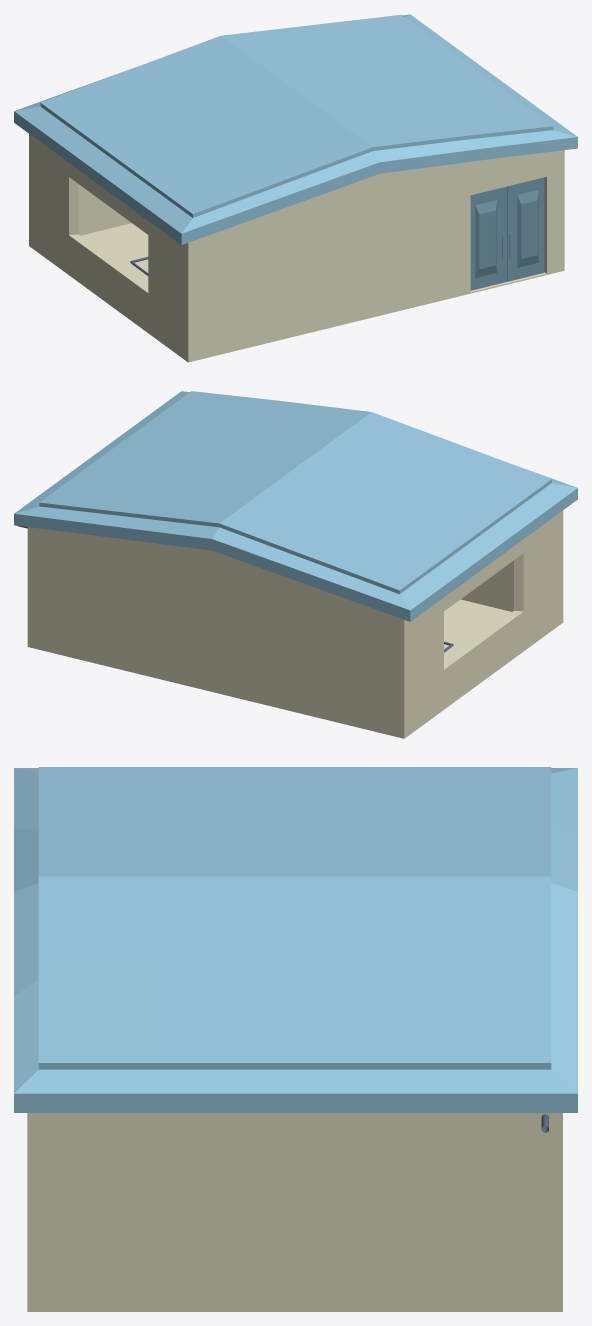
The model's file is Gudang.fbx.
The picture shows the model from 3 angles, top to bottom: view 1: azimuth 30°, elevation 25°; view 2: azimuth 150°, elevation 25°; view 3: azimuth 270°, elevation 25°; orthographic projection. The views are drawn at different scales.
Visible parts, largest first — view 1: Plane.001, Plane, pintu2.003, pintu.001; view 2: Plane.001, Plane; view 3: Plane.001, Plane.
Part boxes in pixels (x1,y1,x2,y2): Plane.001: (14,14,577,245); Plane: (29,134,564,362); pintu2.003: (507,177,544,281); pintu.001: (470,186,506,290); Plane.001: (14,391,577,621); Plane: (27,510,563,738); Plane.001: (14,767,577,1112); Plane: (27,1113,562,1311).
Size of the model in its own units: 1459 by 579 by 1053.
